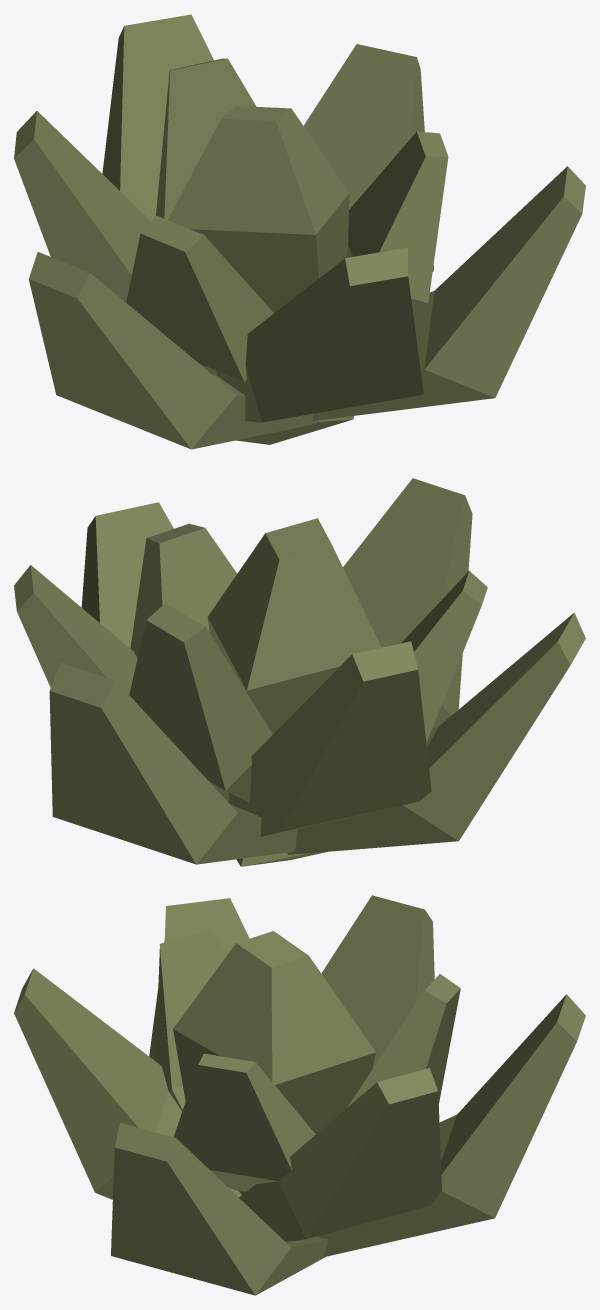
Rendered from SM_Env_Plant_01.glb.
3 views of the same model, one above another, from view 1: azimuth 30°, elevation 25°; view 2: azimuth 150°, elevation 25°; view 3: azimuth 270°, elevation 25° (orthographic). The views are drawn at different scales.
Parts seen in each view (by area): view 1: SM_Env_Plant_01; view 2: SM_Env_Plant_01; view 3: SM_Env_Plant_01.
Part boxes in pixels (left/top/right/bottom): SM_Env_Plant_01: left=14, top=14, right=585, bottom=449; SM_Env_Plant_01: left=14, top=478, right=585, bottom=866; SM_Env_Plant_01: left=14, top=895, right=585, bottom=1295.
Bounding box in the file's own units: 0.6565 × 0.4051 × 0.6699.
Materials: 1 (1 with a texture image).
